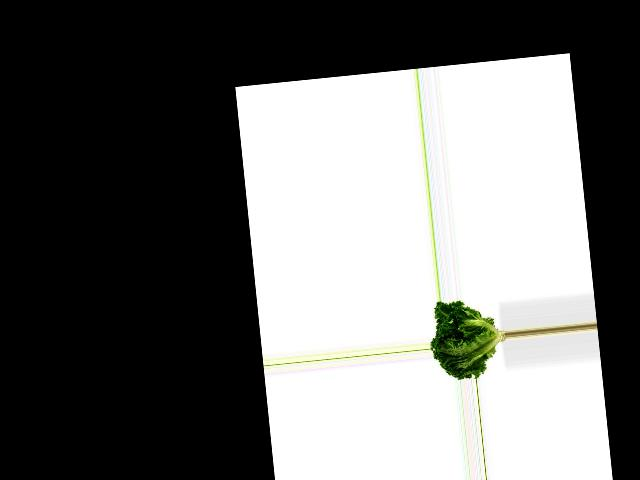lettuce: (427, 296, 509, 382)
